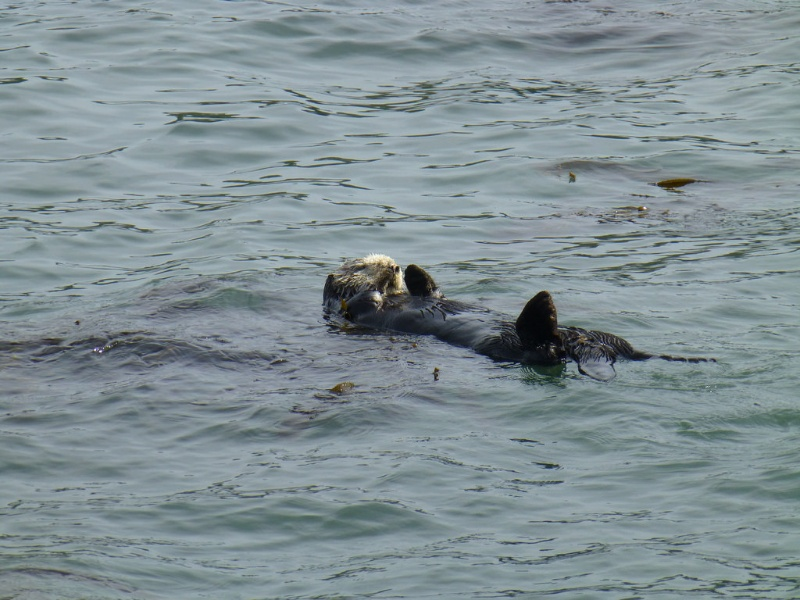minkish: (326, 248, 409, 304)
